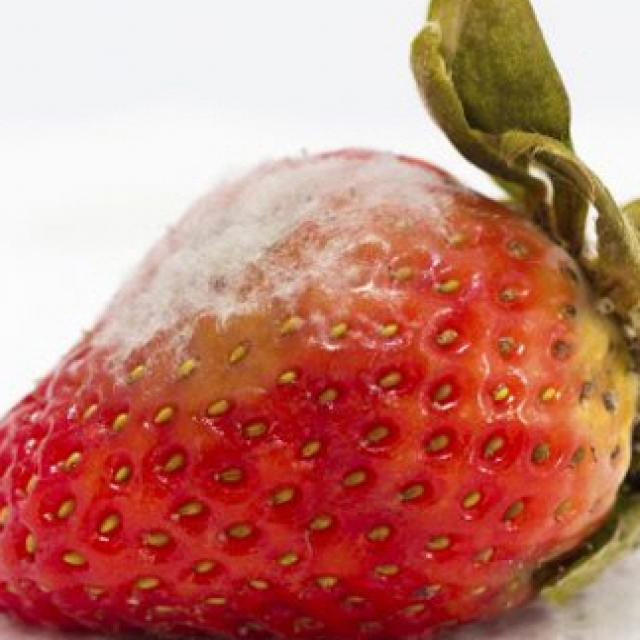Powdery Mildew Fruit: (25, 148, 535, 493)
